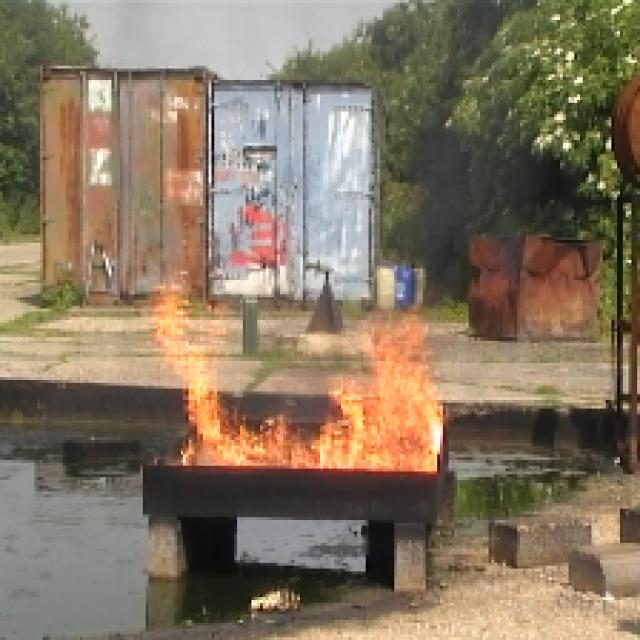fire: (330, 316, 445, 469), (182, 402, 326, 468), (156, 286, 224, 396)
